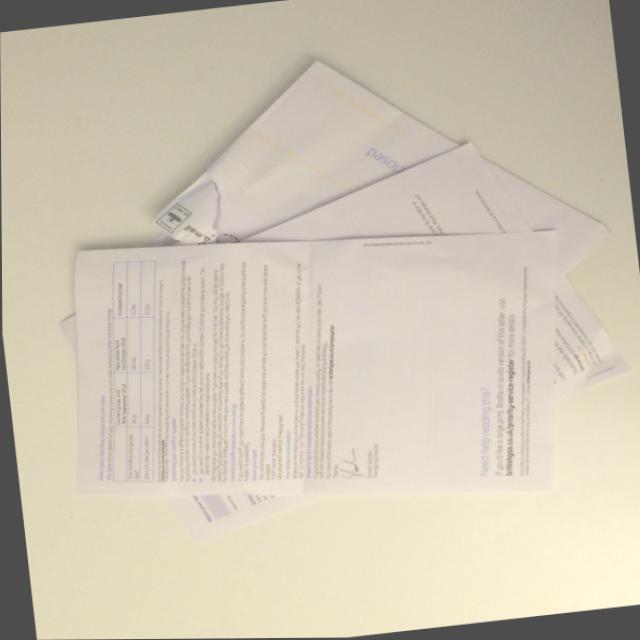Paper: (0, 12, 640, 562)
